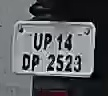1: (55, 30, 64, 50)
2: (64, 54, 74, 74), (45, 53, 54, 73)
3: (73, 54, 82, 73)
4: (64, 32, 74, 52)
5: (54, 54, 64, 73)
D: (21, 52, 30, 72)
P: (43, 32, 54, 52), (30, 55, 41, 72)
U: (31, 31, 44, 51)
